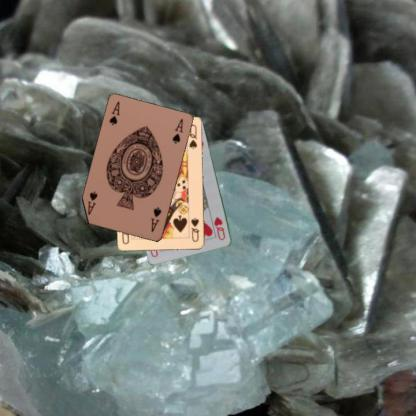As: (148, 204, 163, 234), (107, 98, 121, 126)
Qh: (212, 214, 226, 242)
Qs: (188, 216, 200, 243)
